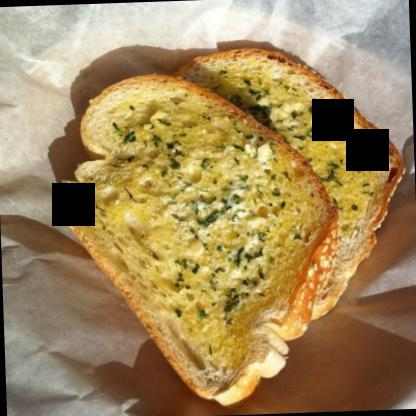toast bread: (64, 69, 347, 404), (163, 41, 414, 329)
